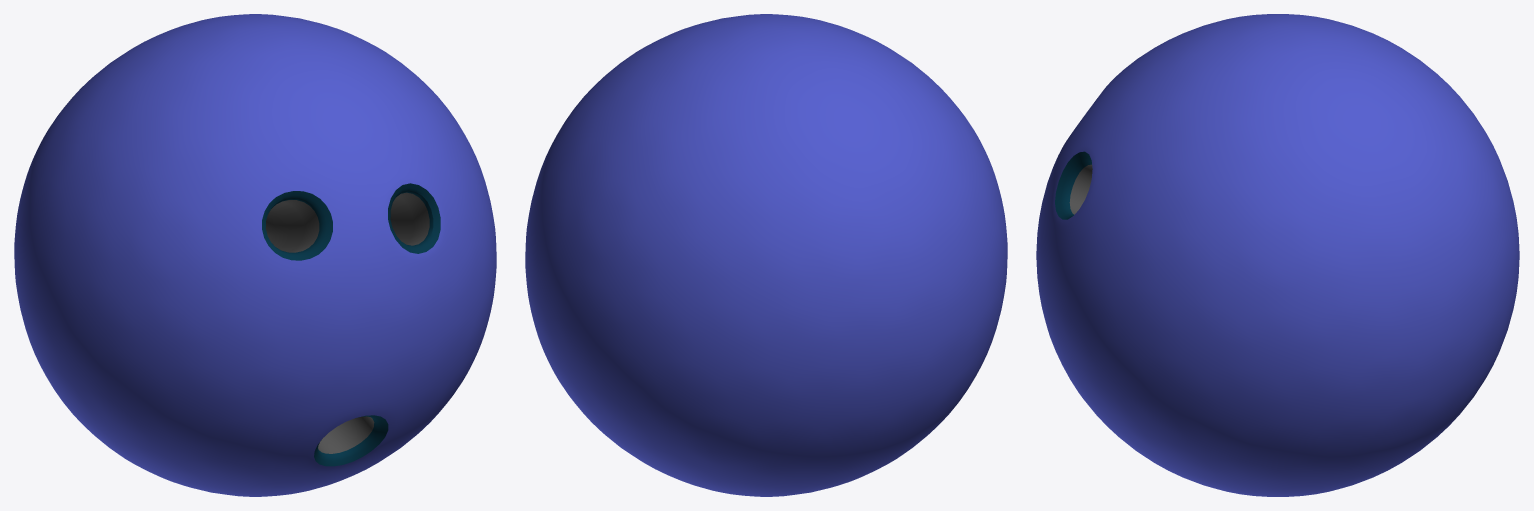
The model's file is Ball.fbx.
The picture shows the model from 3 angles, left to right: view 1: azimuth 30°, elevation 25°; view 2: azimuth 150°, elevation 25°; view 3: azimuth 270°, elevation 25°; orthographic projection.
Parts seen in each view (by area): view 1: BowlingBall; view 2: BowlingBall; view 3: BowlingBall.
Boxes of the visible parts, box(x1,y1,x2,y2) form: BowlingBall: box(14, 14, 496, 496); BowlingBall: box(525, 14, 1007, 496); BowlingBall: box(1036, 14, 1519, 496).
Bounding box in the file's own units: 21.27 × 21.39 × 21.28.
